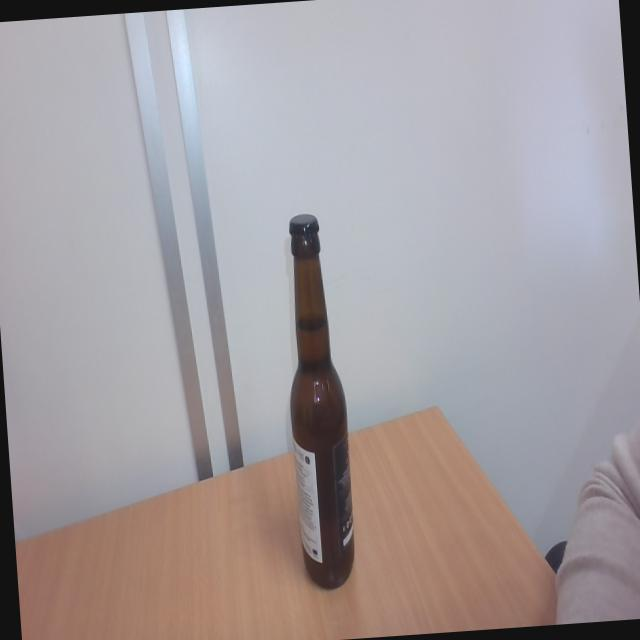Bottle: (276, 242, 358, 592)
Cap: (286, 210, 322, 243)
Label: (292, 449, 324, 562)
